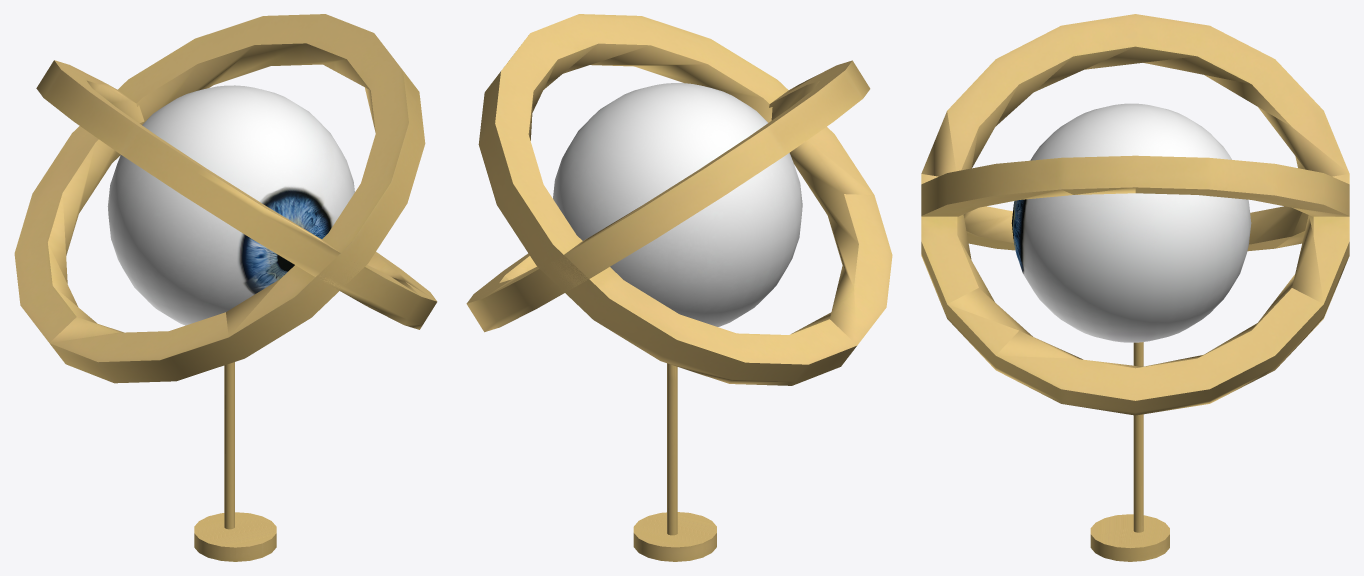
Rendered from Collection03.fbx.
3 views of the same model, side by side, from view 1: azimuth 30°, elevation 25°; view 2: azimuth 150°, elevation 25°; view 3: azimuth 270°, elevation 25° (orthographic). The views are drawn at different scales.
Parts seen in each view (by area): view 1: Mesh_0; view 2: Mesh_0; view 3: Mesh_0.
Boxes of the visible parts, x1,y1,x2,y2 form: Mesh_0: (14, 14, 437, 561); Mesh_0: (466, 14, 892, 561); Mesh_0: (921, 14, 1349, 561).
Bounding box in the file's own units: 152 × 200 × 167.
1 material, 1 textured.
